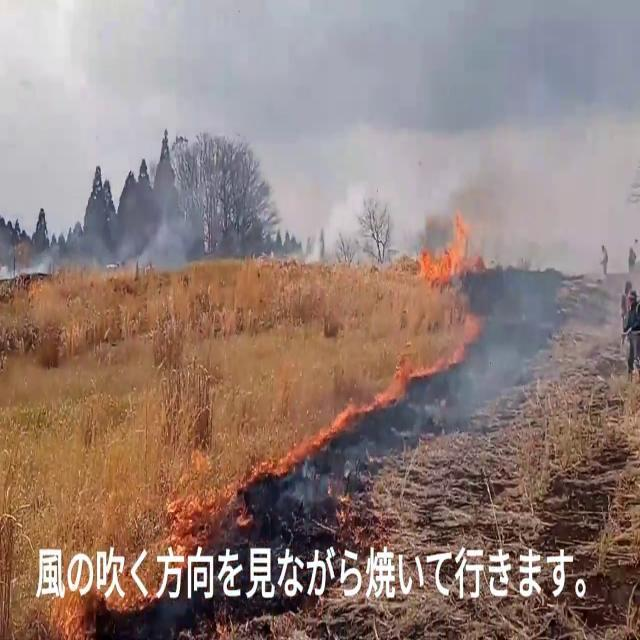Fire: (412, 202, 476, 298), (360, 352, 424, 412)
Smoke: (110, 184, 216, 274)
